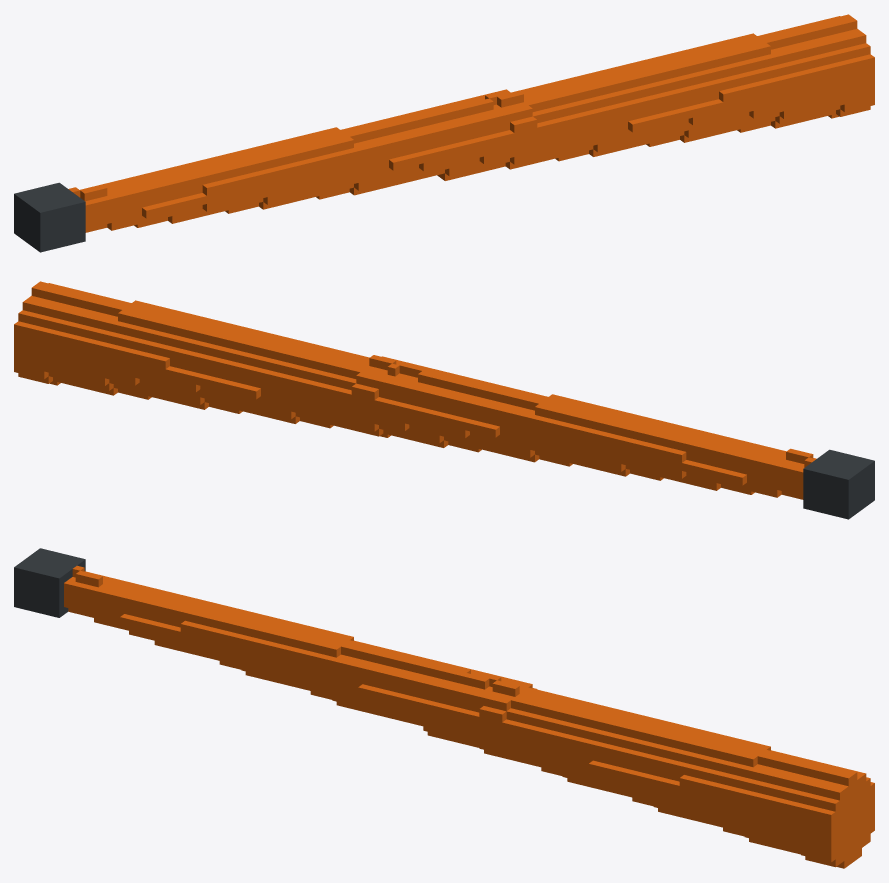
The model's file is news_helicopter_tail_boom.glb.
3 renders of one model, top to bottom at view 1: azimuth 30°, elevation 25°; view 2: azimuth 150°, elevation 25°; view 3: azimuth 330°, elevation 25°, orthographic.
Parts seen in each view (by area): view 1: body:compound; view 2: body:compound; view 3: body:compound.
Boxes of the visible parts, left/top/right/bottom form: body:compound: left=14, top=14, right=874, bottom=252; body:compound: left=14, top=281, right=874, bottom=519; body:compound: left=14, top=548, right=874, bottom=868.
Bounding box in the file's own units: 3.41 × 0.4062 × 0.3125.
